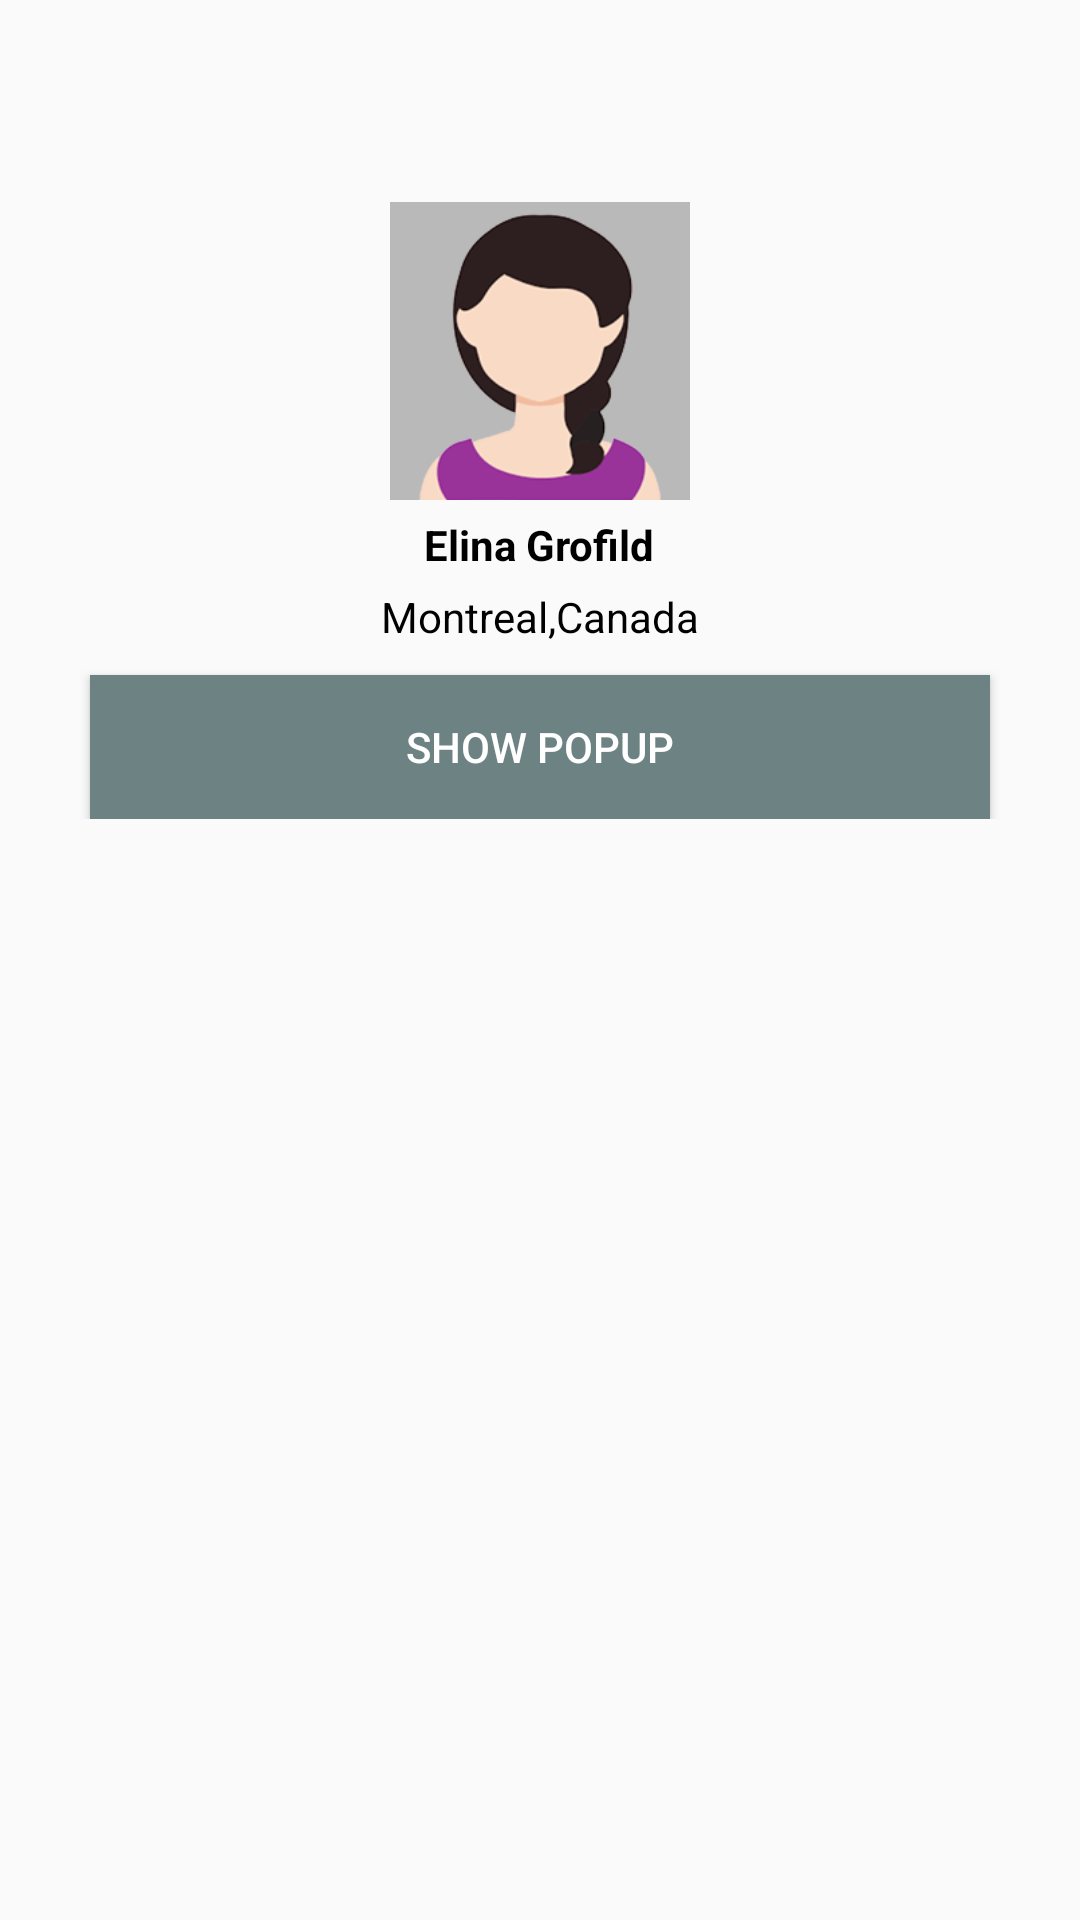

Where icons sit on this 1080x1920 app screen, as rect(x1, y1, x2, y2):
defaultfemaleimg: rect(390, 202, 690, 500)
